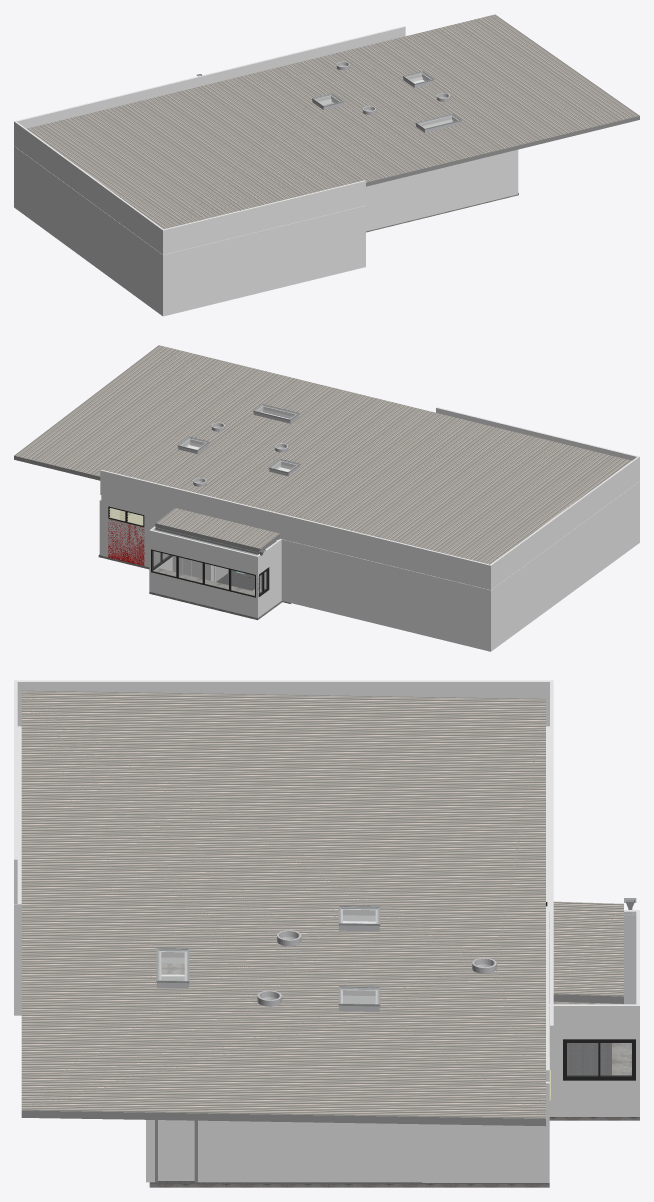
File: TATHRA SLSC TM.fbx
3 renders of one model, top to bottom at view 1: azimuth 30°, elevation 25°; view 2: azimuth 150°, elevation 25°; view 3: azimuth 270°, elevation 25°, orthographic. The views are drawn at different scales.
Visible parts, largest first — view 1: RT - 017, SW - 073, SW - 072, SW - 070, SW - 087, SW - 086, SW - 085, SKY-01; view 2: RT - 017, SW - 081, SW - 086, SW - 072, SW - 079, SW - 085, SW - 075, RT - 018, WD - 051, SW - 087, SW - 080, SW - 084 (+4 smaller); view 3: RT - 017, SW - 070 (×3), SW - 085, RT - 018, SW - 078, SLA - 030, SKY-01 (×3), WD - 052, DOO - 038, SW - 086, Gutter 22 - FU - 0372, SW - 071 (+3 smaller).
Boxes of the visible parts, x1,y1,x2,y2 form: RT - 017: (27,14,639,228); SW - 073: (163,205,365,316); SW - 072: (14,146,162,315); SW - 070: (366,149,518,231); SW - 087: (163,180,365,254); SW - 086: (15,26,405,128); SW - 085: (14,121,163,254); SKY-01: (415,113,461,132); RT - 017: (14,345,631,564); SW - 081: (281,539,490,651); SW - 086: (100,469,490,589); SW - 072: (491,481,639,651); SW - 079: (151,530,258,618); SW - 085: (490,456,639,589); SW - 075: (99,495,169,567); RT - 018: (155,508,279,552); WD - 051: (151,549,255,597); SW - 087: (436,407,638,460); SW - 080: (257,539,281,616); SW - 084: (108,519,144,565); RT - 017: (21,690,545,1126); SW - 070 (×3): (199,1082,549,1182); SW - 085: (14,680,553,726); RT - 018: (553,901,623,1003); SW - 078: (549,1004,639,1116); SLA - 030: (149,1043,639,1187); SKY-01 (×3): (156,906,380,1011); WD - 052: (563,1039,635,1080); DOO - 038: (155,1120,197,1182); SW - 086: (550,680,553,1069); Gutter 22 - FU - 0372: (624,911,636,1004); SW - 071: (14,903,21,1015).
Size of the model in its own units: 2457 by 1536 by 432.
Materials: 28 (8 with a texture image).
